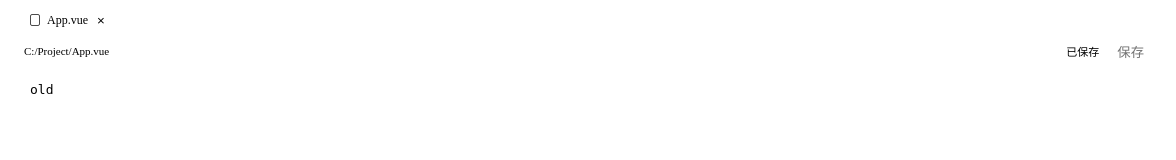
FileEditorPane › updates content and shows dirty marker
Step 1. Replace the text in the text box with "new" → (588, 101), box 12,66 -> 1164,136
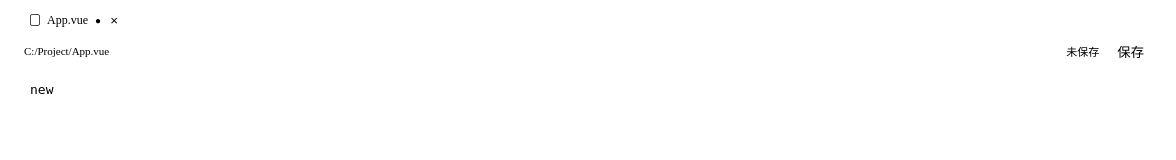
Expected: the text "●" is shown, 95,14 -> 101,26
Expected: the text "未保存" is shown, 1066,46 -> 1099,58
